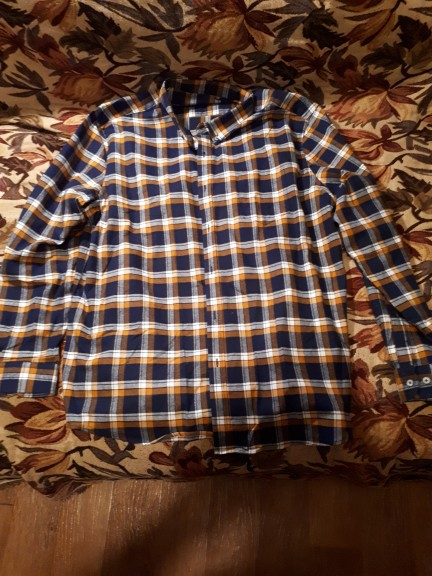shirts: (15, 69, 414, 451)
